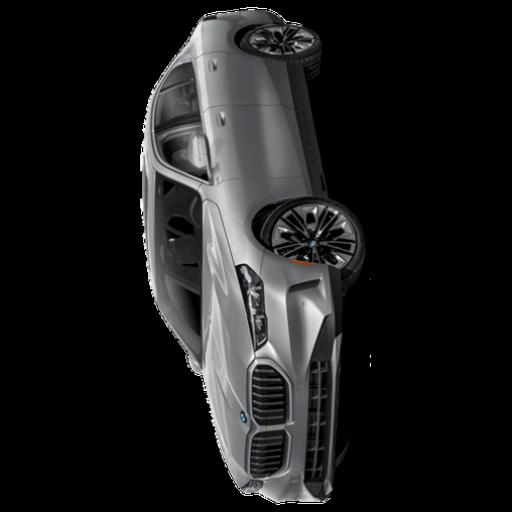sedan: (144, 10, 363, 501)
